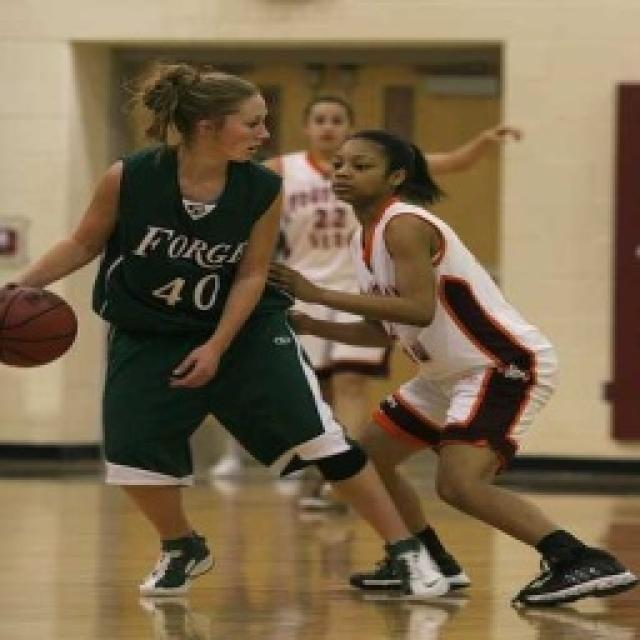rim: (0, 280, 84, 376)
